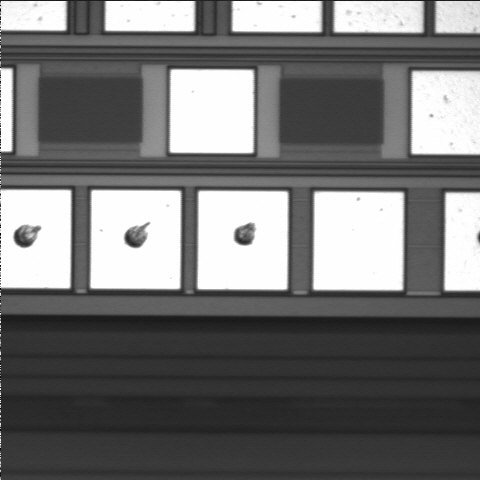pad: (91, 190, 181, 289), (198, 191, 288, 290), (313, 192, 403, 290), (170, 70, 254, 153)
